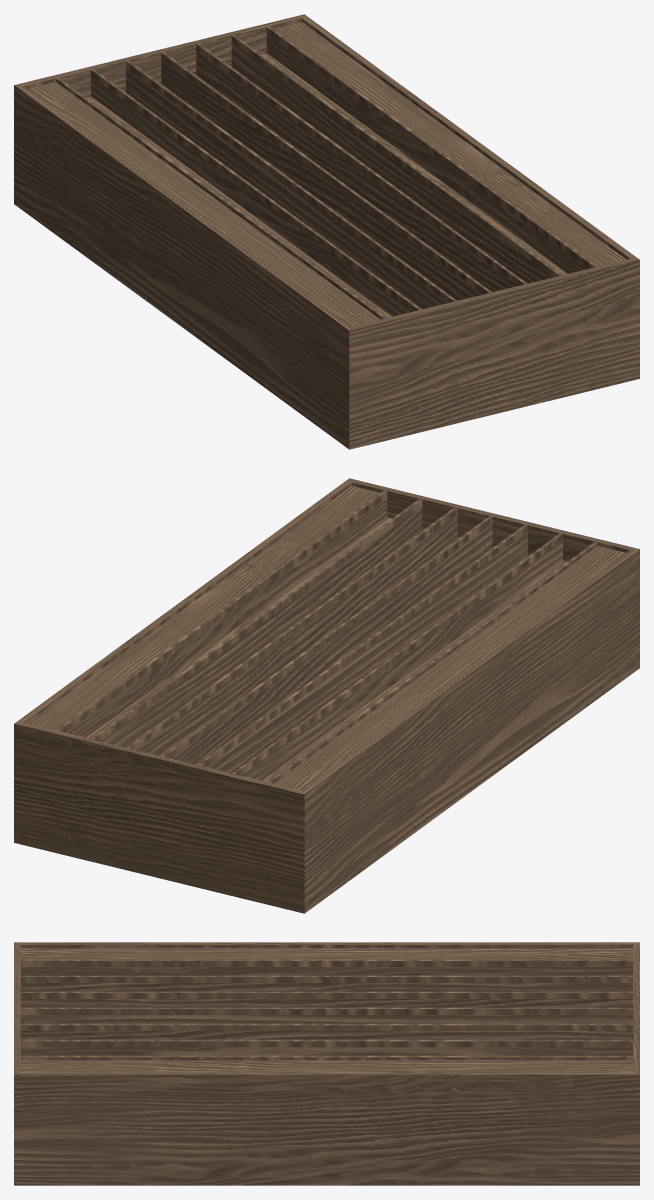
The model's file is RQS357.glb.
The picture shows the model from 3 angles, top to bottom: view 1: azimuth 30°, elevation 25°; view 2: azimuth 150°, elevation 25°; view 3: azimuth 270°, elevation 25°; orthographic projection. The views are drawn at different scales.
Parts seen in each view (by area): view 1: RQS357 v1; view 2: RQS357 v1; view 3: RQS357 v1.
Boxes of the visible parts, x1,y1,x2,y2 form: RQS357 v1: (14,14,639,449); RQS357 v1: (14,478,639,913); RQS357 v1: (14,942,639,1185).
Bounding box in the file's own units: 23.63 × 9.25 × 47.25.
1 material, 1 textured.
